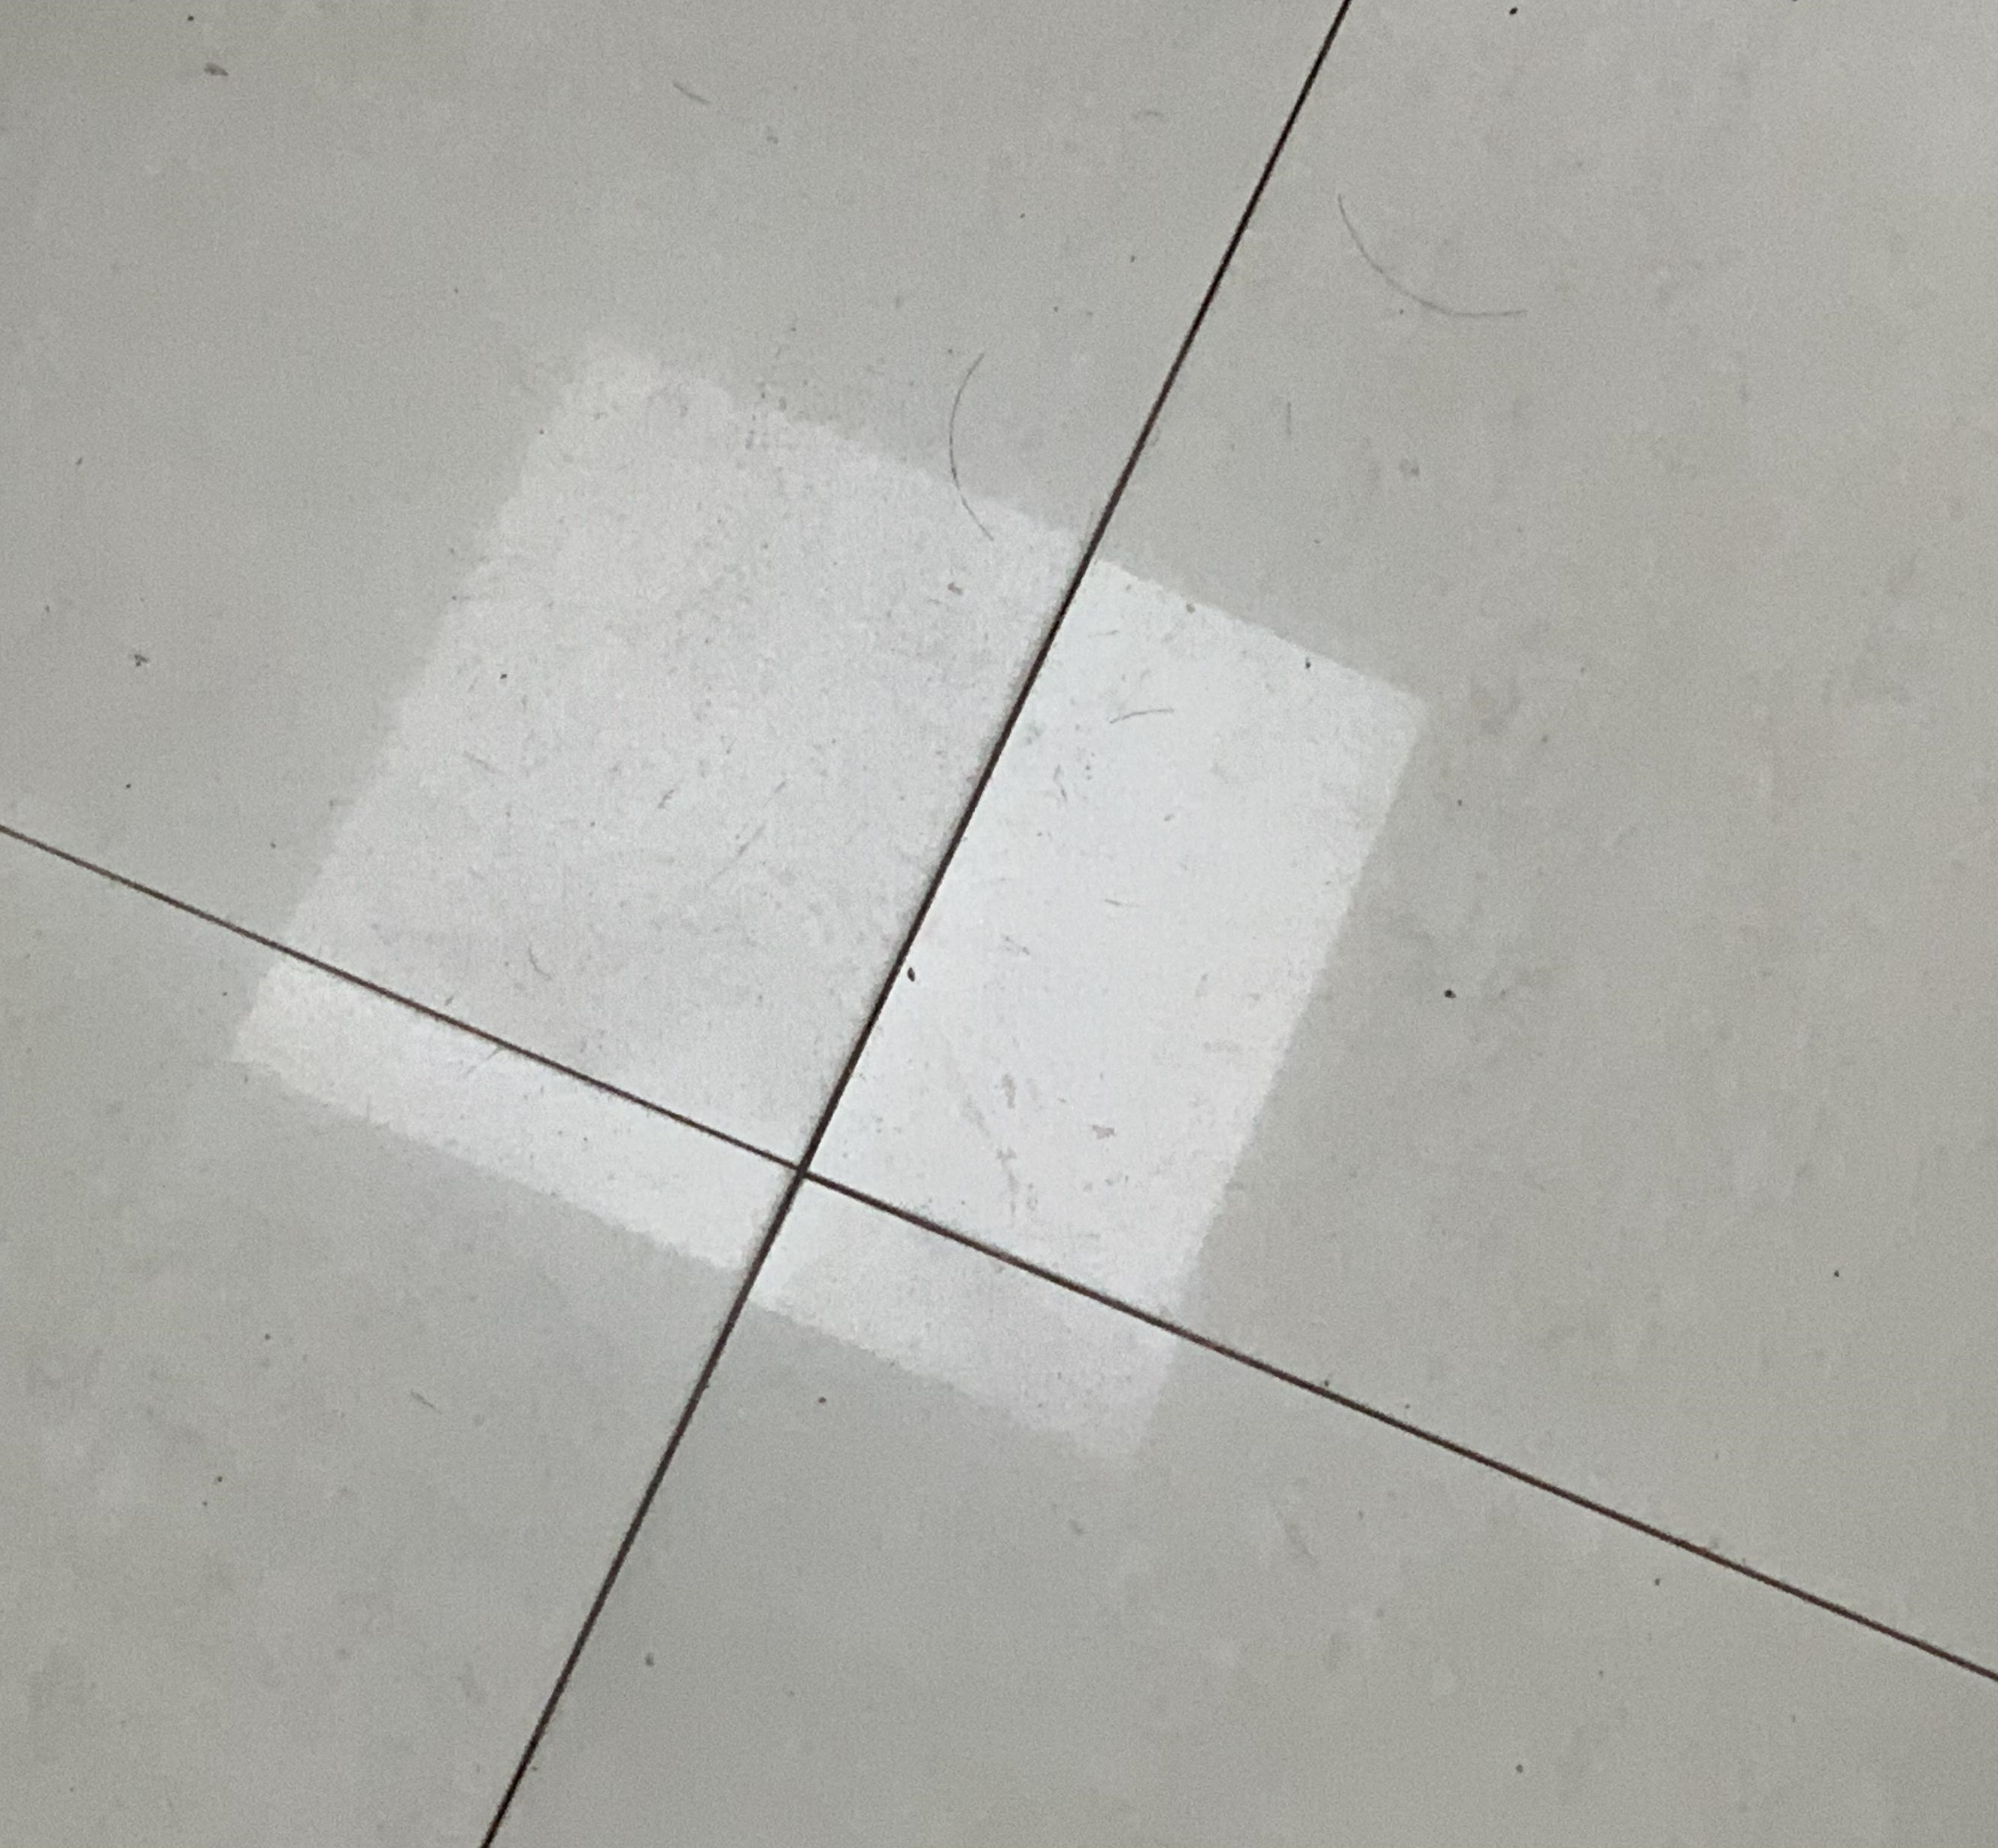reflection: (226, 329, 1418, 1470)
